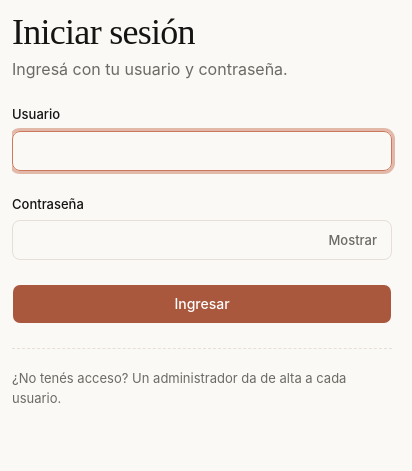
Test case: LoginForm › no envía con campos vacíos
Click the button "Ingresar". click: [202, 304]
box: top-left (12, 284), bottom-right (392, 324)
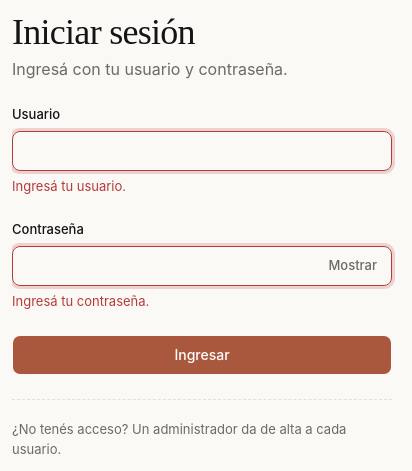
Check: the text "Ingresá tu usuario." is shown, box top-left (12, 178), bottom-right (126, 194)
